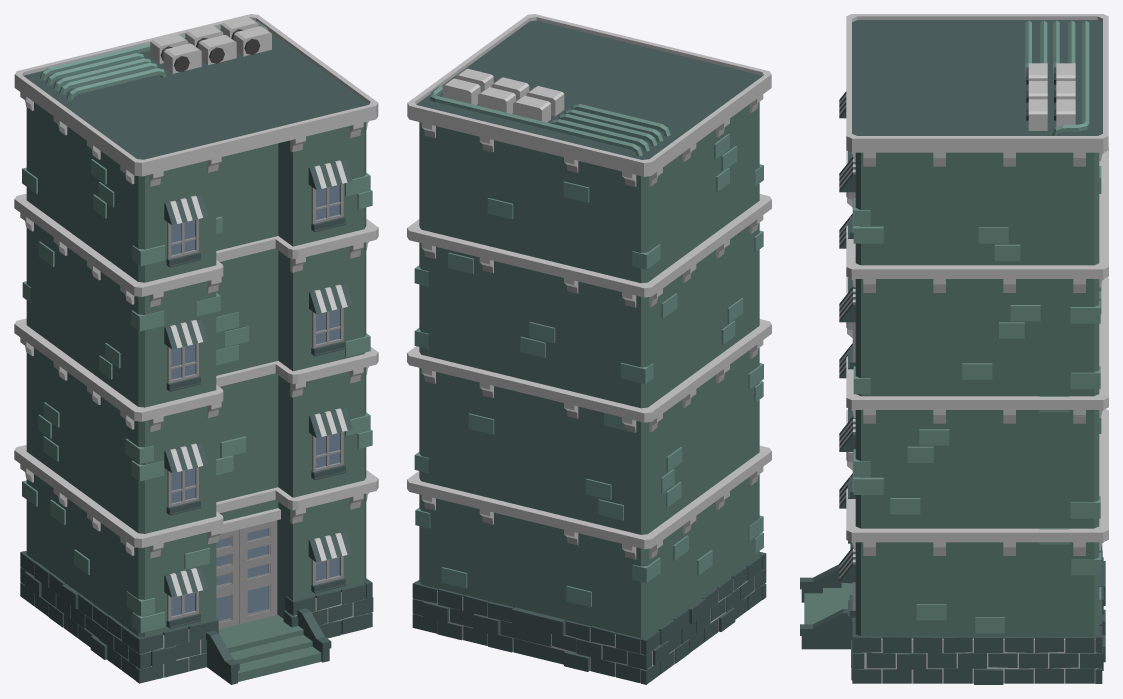
The model's file is four-story-building.gltf.
The picture shows the model from 3 angles, left to right: view 1: azimuth 30°, elevation 25°; view 2: azimuth 150°, elevation 25°; view 3: azimuth 270°, elevation 25°; orthographic projection. The views are drawn at different scales.
Visible parts, largest first — view 1: 4Story_Center_Mat; view 2: 4Story_Center_Mat; view 3: 4Story_Center_Mat.
Boxes of the visible parts, x1,y1,x2,y2 form: 4Story_Center_Mat: (14, 14, 378, 684); 4Story_Center_Mat: (407, 14, 771, 684); 4Story_Center_Mat: (800, 14, 1108, 684).
Bounding box in the file's own units: 2.42 × 5.09 × 2.53.
